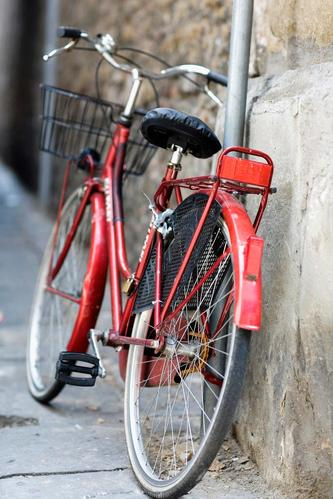单车: (8, 17, 296, 499)
